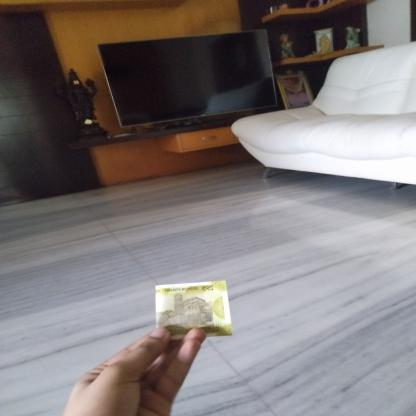New20Back: (152, 282, 226, 335)
